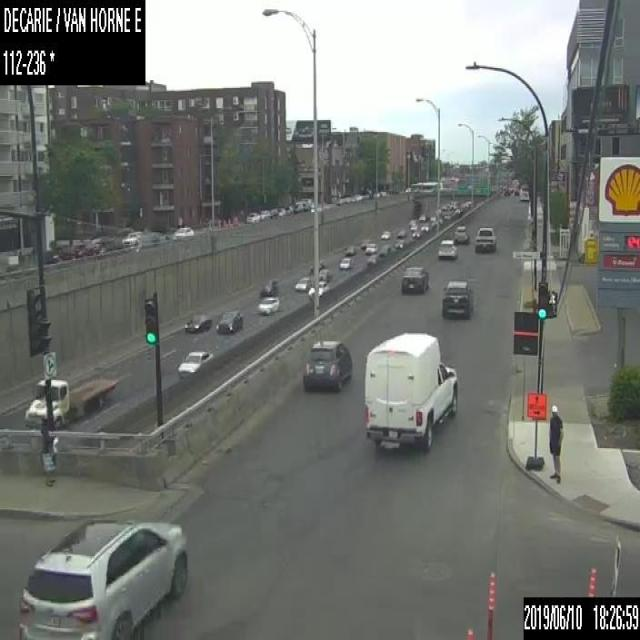bus: (409, 181, 436, 191), (519, 183, 529, 200)
construction: (526, 391, 546, 472), (484, 568, 496, 639), (588, 565, 596, 596), (464, 628, 474, 639)
pedestrian: (546, 402, 566, 482), (40, 421, 59, 484)
vehicle: (15, 516, 188, 639), (362, 330, 458, 450), (24, 376, 116, 427), (302, 337, 354, 392), (440, 279, 474, 317), (176, 348, 214, 373), (399, 262, 429, 290), (214, 307, 242, 333), (46, 238, 72, 262), (182, 310, 212, 330), (474, 224, 496, 251), (255, 295, 280, 313), (308, 280, 328, 300), (437, 239, 457, 257), (120, 231, 144, 246), (260, 278, 276, 296), (294, 276, 312, 292), (72, 242, 94, 255), (453, 226, 469, 243), (91, 237, 109, 251), (172, 226, 194, 237), (310, 259, 326, 273), (245, 211, 260, 223), (339, 256, 352, 269), (318, 267, 330, 281), (378, 244, 391, 256), (302, 197, 312, 210), (364, 243, 376, 253), (259, 208, 269, 219), (367, 254, 378, 264), (344, 244, 354, 254), (291, 202, 301, 212), (268, 208, 278, 218), (298, 199, 306, 211), (380, 229, 390, 238), (360, 239, 370, 248), (394, 239, 405, 247), (283, 205, 292, 214), (396, 228, 405, 236), (409, 222, 417, 230), (411, 230, 420, 237), (278, 206, 284, 216), (418, 213, 426, 220), (421, 222, 428, 230), (336, 197, 342, 204), (430, 214, 436, 221)
